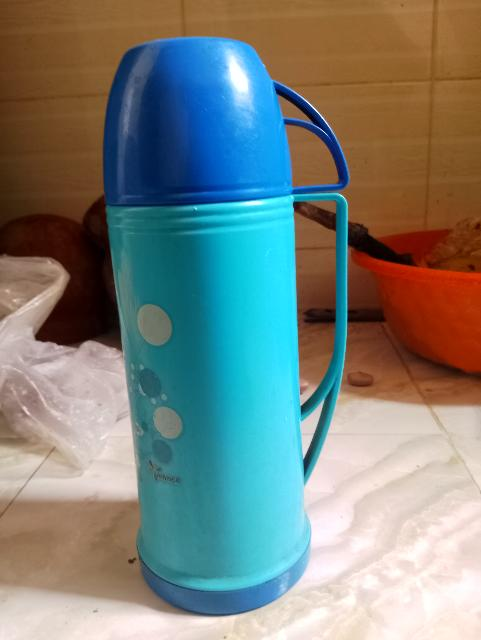hardplastic: (90, 15, 361, 640)
